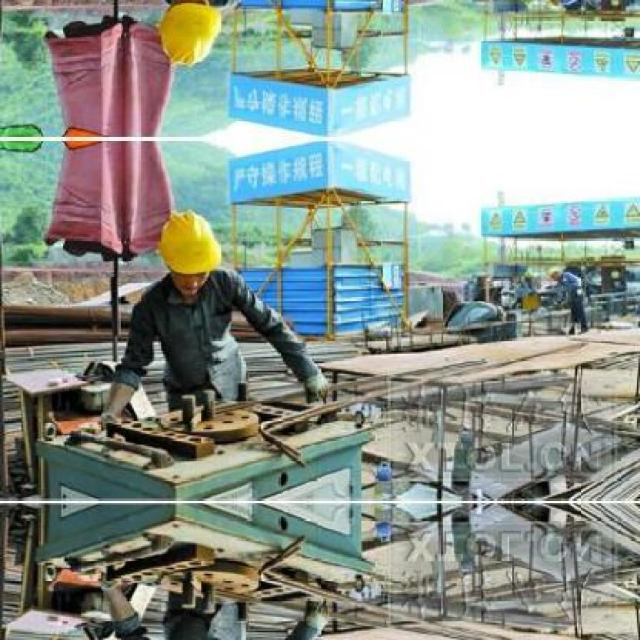helmet: (147, 203, 225, 294), (146, 0, 226, 71)
